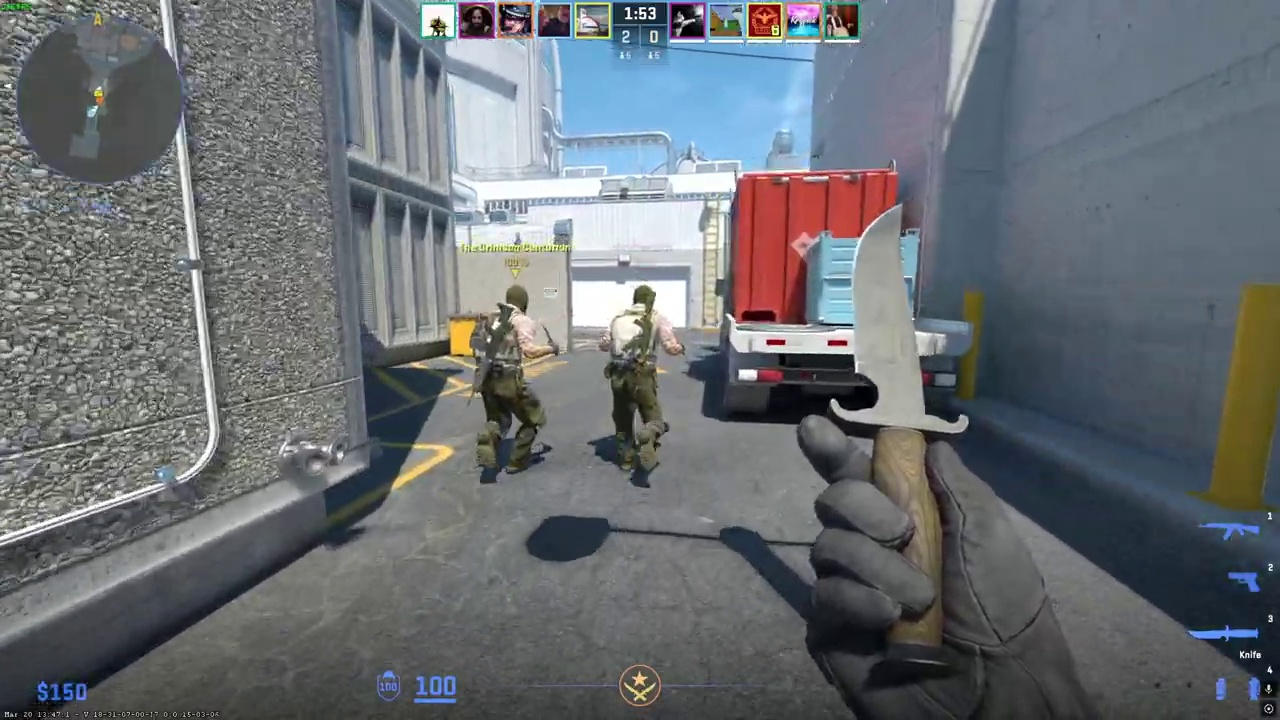Terrorist: (470, 284, 552, 474), (599, 284, 680, 471)
